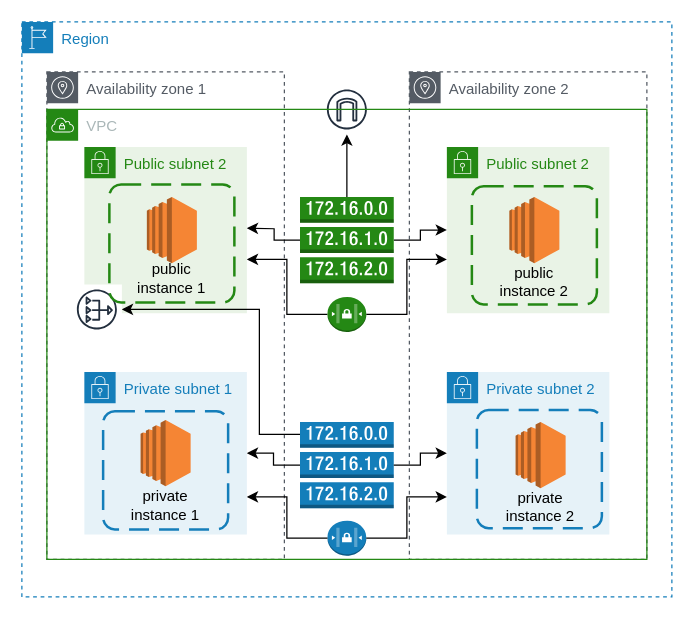
The diagram is 694 pixels wide and 619 high, and some of its shapes have lost their labels. Each missing label, with the centre of its shape:
"Internet gateway" goes at (346,108).
"NAT gateway" goes at (96,308).
